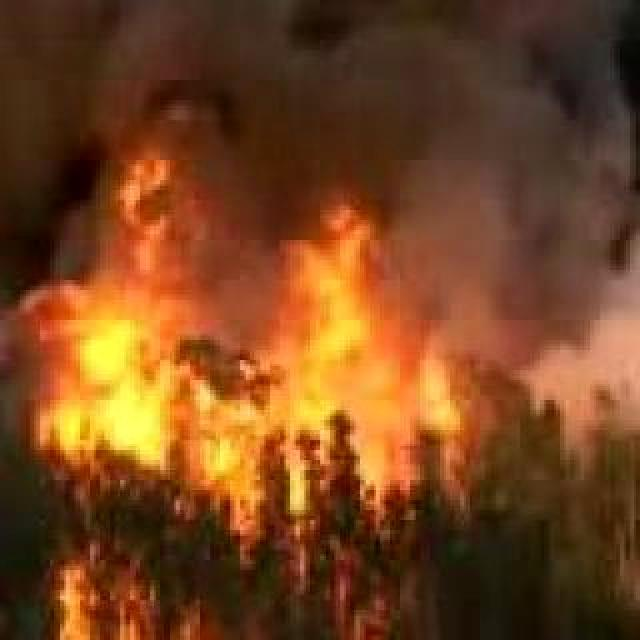fire: (21, 117, 477, 495), (0, 556, 556, 640)
